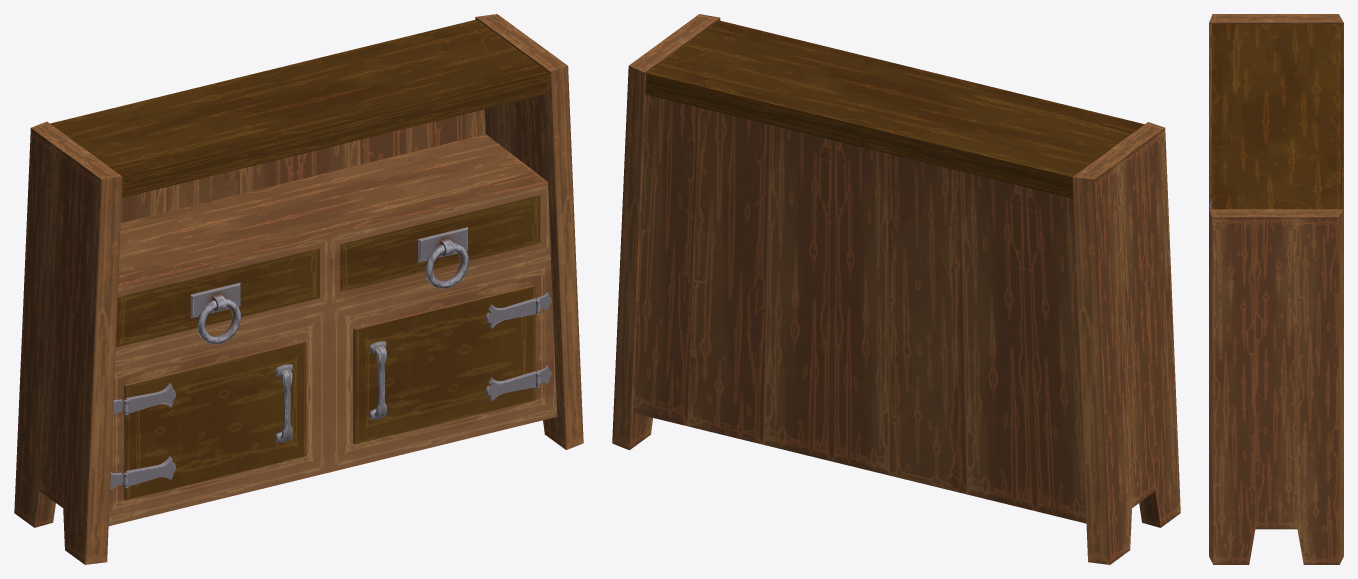
Rendered from cabinet.glb.
3 renders of one model, left to right at view 1: azimuth 30°, elevation 25°; view 2: azimuth 150°, elevation 25°; view 3: azimuth 270°, elevation 25°, orthographic. The views are drawn at different scales.
Parts seen in each view (by area): view 1: Cabinet; view 2: Cabinet; view 3: Cabinet.
Part boxes in pixels (x1,y1,x2,y2): Cabinet: (14,14,583,564); Cabinet: (612,14,1180,564); Cabinet: (1209,14,1343,564).
Bounding box in the file's own units: 1.36 × 0.9974 × 0.3571.
Materials: 2 (2 with a texture image).
